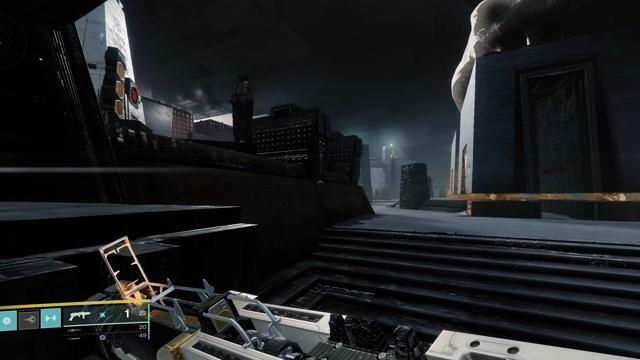stop: (131, 87, 138, 104)
